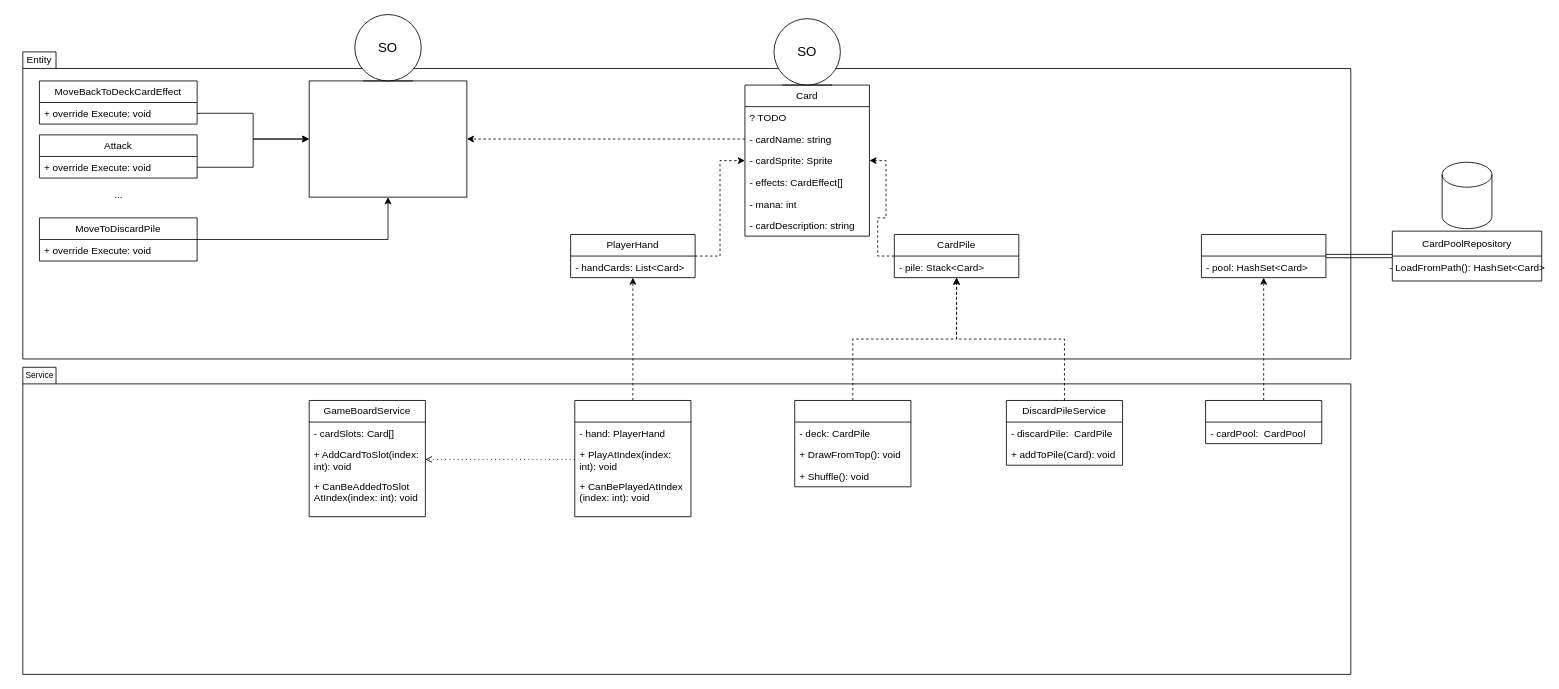
Some shapes in this 1559 by 689 pixel diagram are drawn without their labels. The box of each missing label's shape, as (x1, y1, x2, y2) in pixels:
<<Abstract>> CardEffect + abstract Execute(): void: (308, 80, 467, 197)
CardPool: (1201, 234, 1326, 278)
CardPoolService: (1205, 400, 1322, 444)
DeckService: (794, 400, 911, 487)
PlayerHandService: (574, 400, 691, 517)
